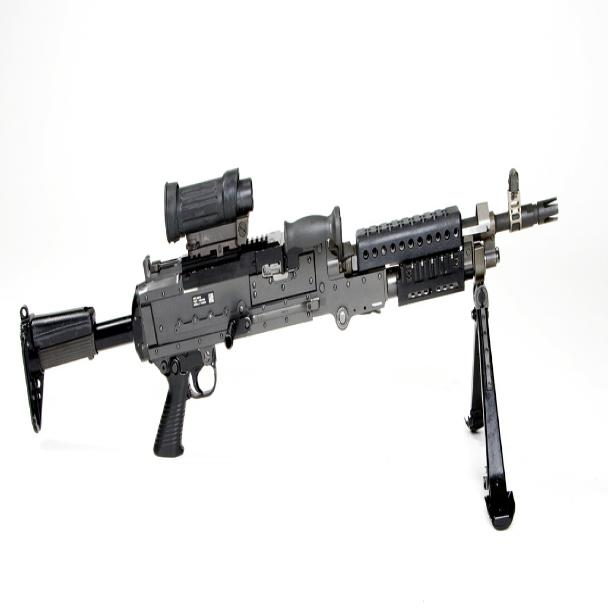Gun: (21, 95, 557, 540)
